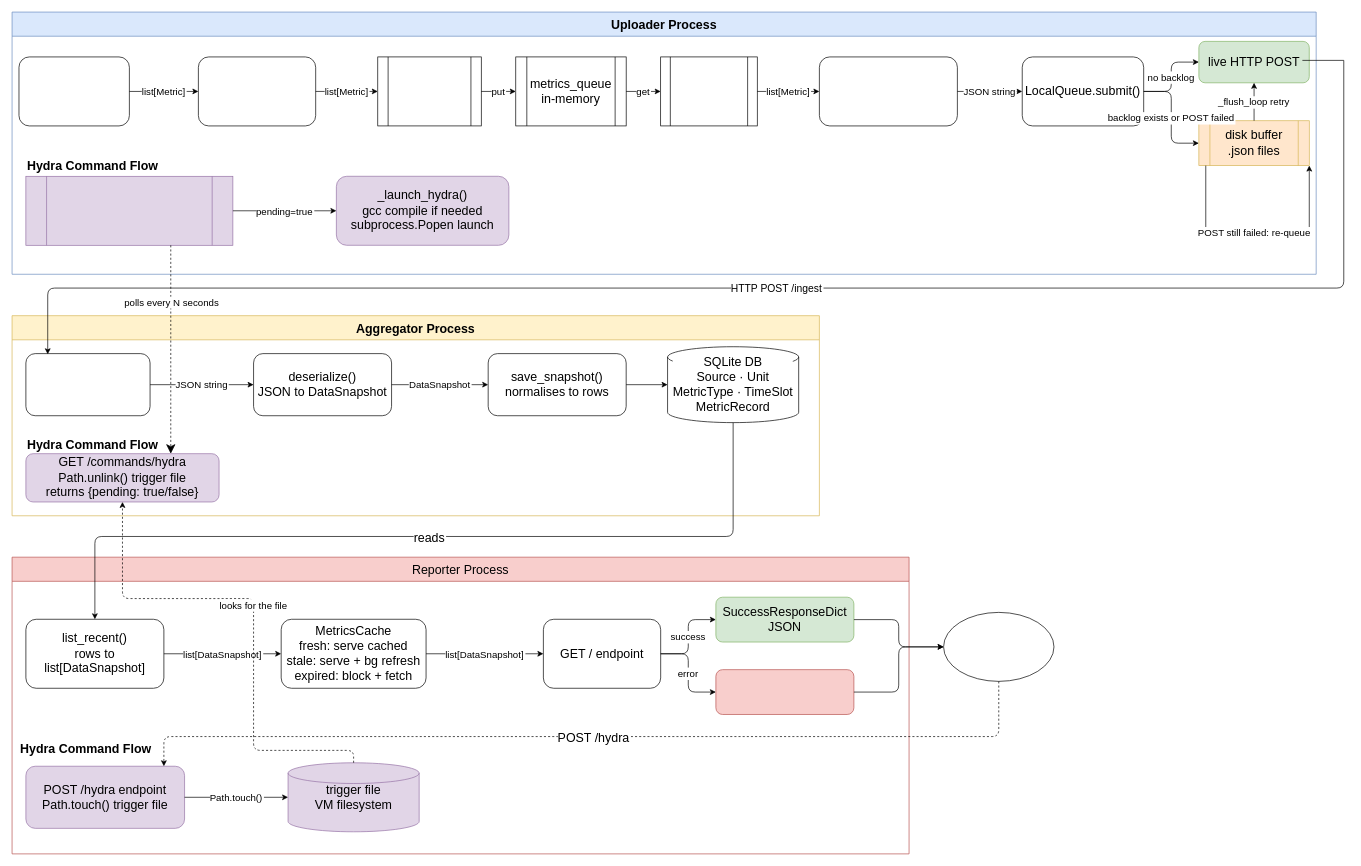
The diagram is 1361 pixels wide and 866 high, and some of its shapes have lost their labels. The shapes that lost their labels are listed below. From the top down, each one's centre as x and y in pixels, then its label:
At pixel 73 91: "PcCollector CmcCollector FirebaseCollector".
At pixel 257 91: "collect_all() ThreadPoolExecutor".
At pixel 429 91: "_collect_loop thread".
At pixel 708 91: "_write_loop thread".
At pixel 888 91: "serialize() DataSnapshot to JSON string".
At pixel 129 210: "_hydra_loop thread polls GET /commands/hydra every poll_interval_seconds".
At pixel 87 384: "POST /ingest".
At pixel 998 646: "React Client".
At pixel 784 691: "ErrorResponseDict JSON".
